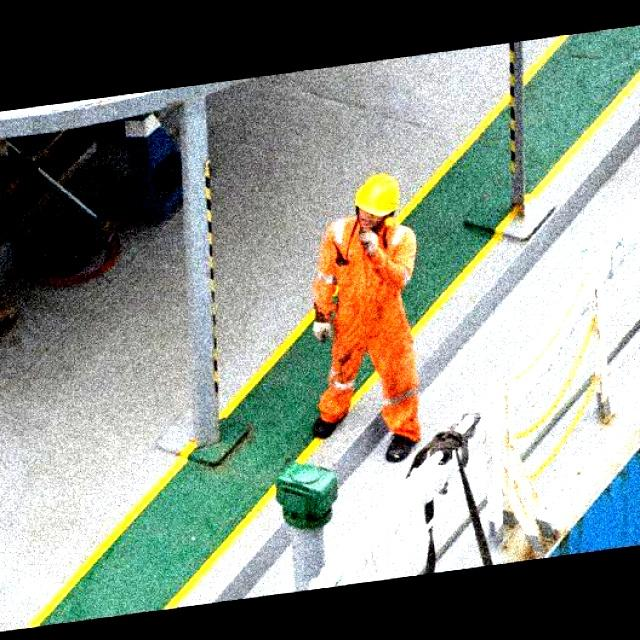Capacete: (355, 173, 399, 216)
